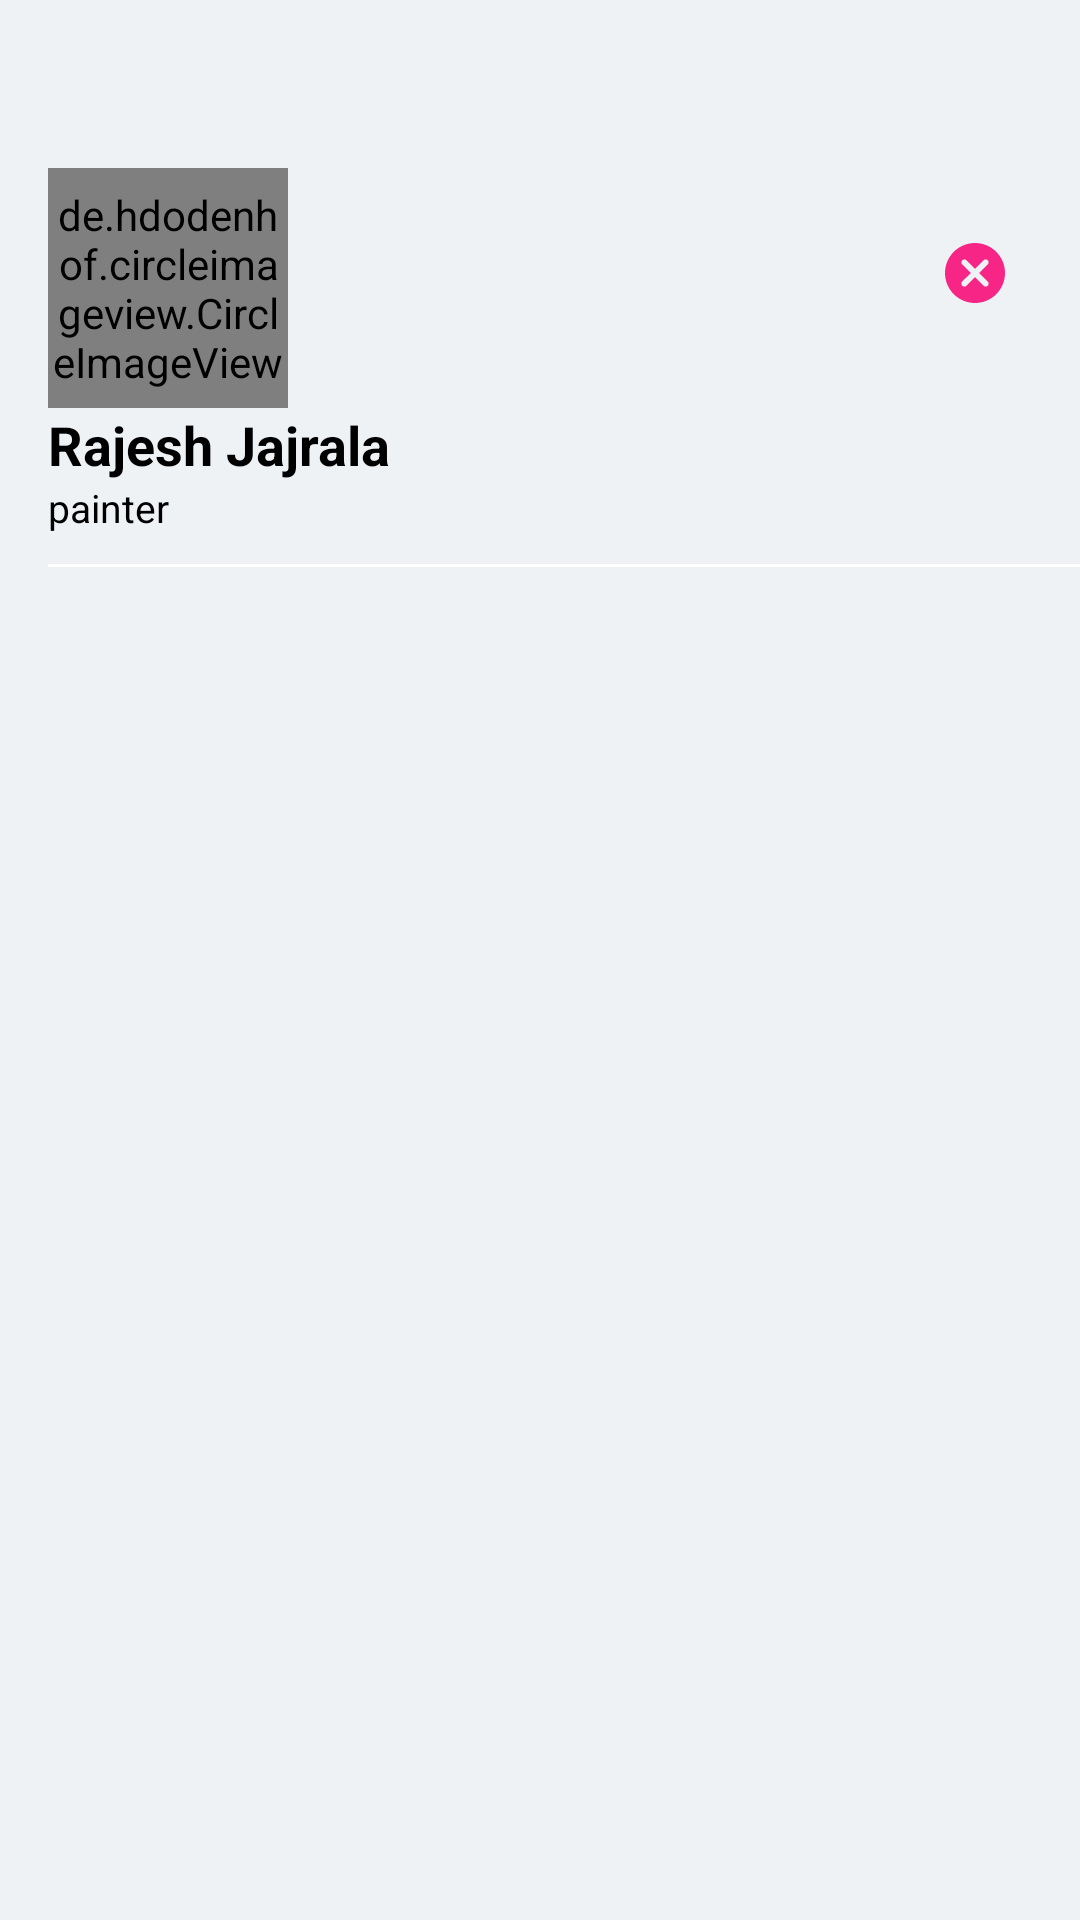

Named icons in this screenshot (1080×1920) and their bounding boxes, (x1, y1, x2, y2):
cancel: (945, 243, 1005, 303)
